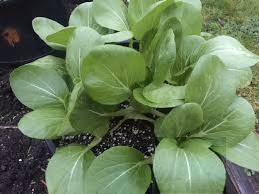Healthy-Pechay: (34, 2, 259, 192)
